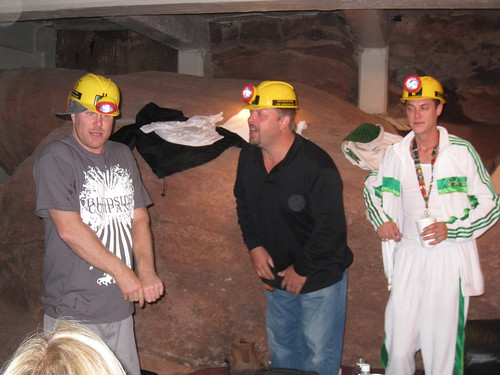person hardhat: (362, 74, 500, 375), (30, 74, 165, 375), (238, 78, 350, 375)
